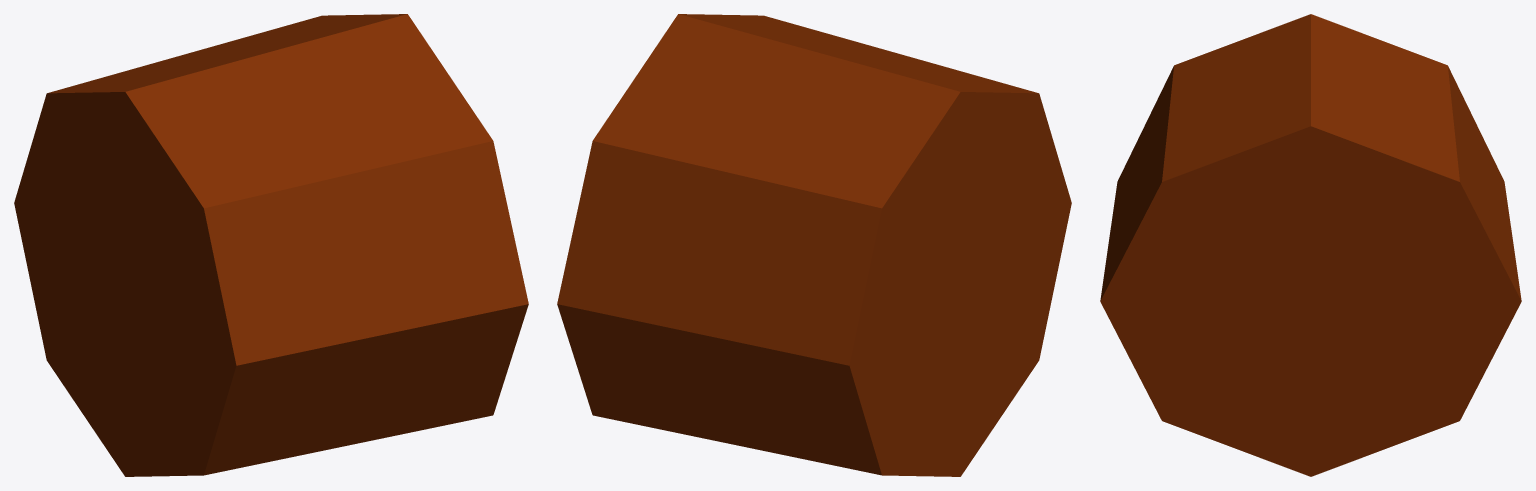
The model's file is carrot_1.obj.
The picture shows the model from 3 angles, left to right: view 1: azimuth 30°, elevation 25°; view 2: azimuth 150°, elevation 25°; view 3: azimuth 270°, elevation 25°; orthographic projection. The views are drawn at different scales.
Bounding box in the file's own units: 1.61 × 2.2 × 2.39.
